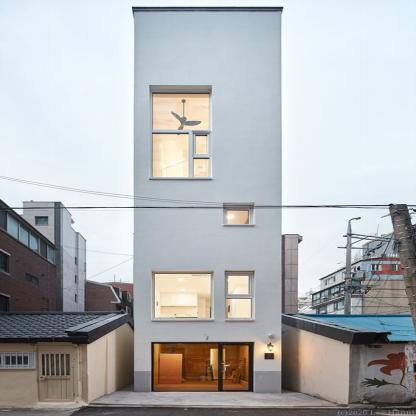Building Outline: (131, 6, 284, 393)
Deco: (265, 353, 274, 360)
Door: (220, 344, 253, 392)
Facade: (130, 6, 285, 392)
Floor Slab: (133, 333, 282, 340), (134, 76, 281, 83), (134, 252, 281, 259), (134, 186, 281, 192)
Glass Wall: (154, 344, 219, 390)
Window: (152, 132, 209, 178), (154, 274, 211, 318), (152, 93, 209, 130), (227, 275, 252, 318), (227, 210, 249, 224)
